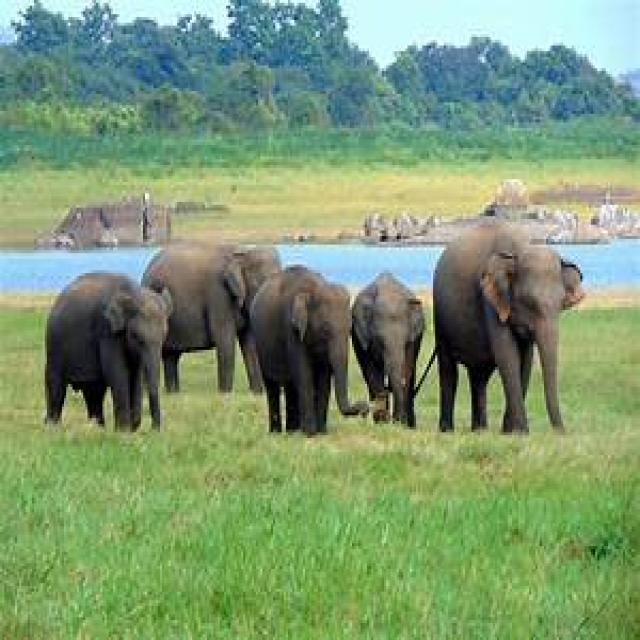elephant: (433, 225, 585, 435), (45, 273, 171, 432), (141, 242, 267, 395), (250, 267, 356, 438), (352, 273, 427, 430)
